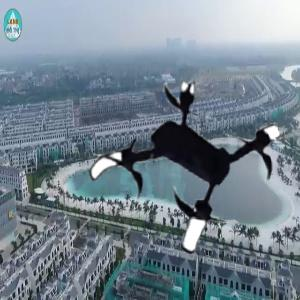drone: (87, 72, 287, 272)
